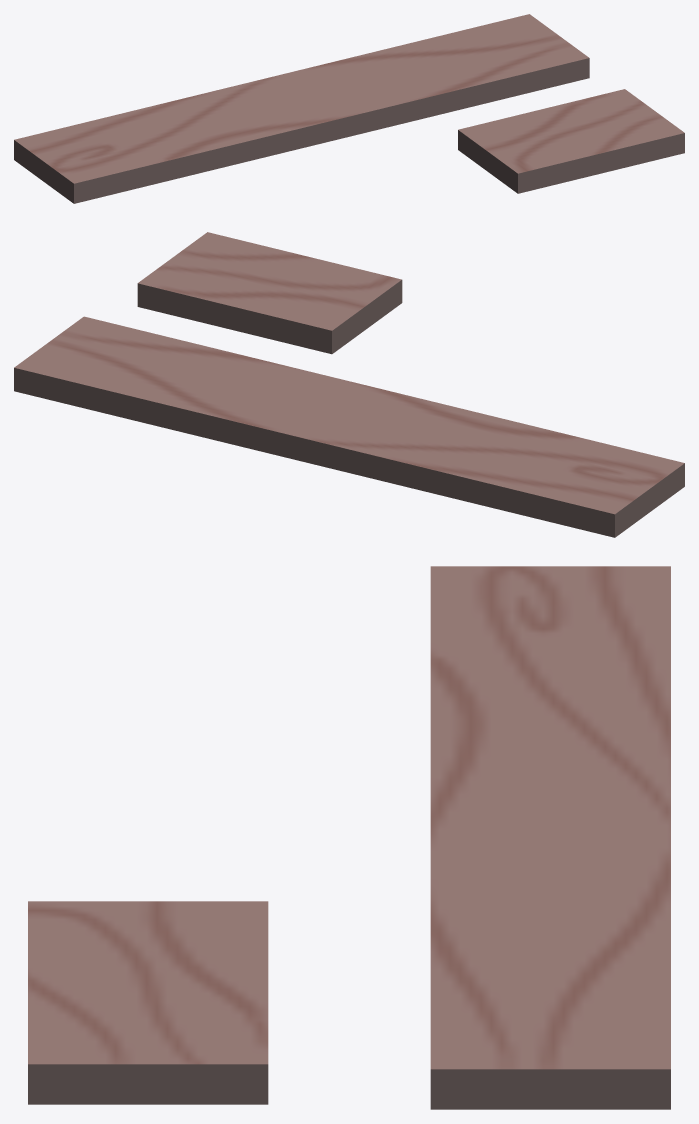
Rendered from bond_steps2.fbx.
3 views of the same model, one above another, from view 1: azimuth 30°, elevation 25°; view 2: azimuth 150°, elevation 25°; view 3: azimuth 270°, elevation 25° (orthographic). The views are drawn at different scales.
Visible parts, largest first — view 1: Props_steps.001; view 2: Props_steps.001; view 3: Props_steps.001.
Part boxes in pixels (left/top/right/bottom): Props_steps.001: left=14, top=14, right=684, bottom=203; Props_steps.001: left=14, top=232, right=684, bottom=537; Props_steps.001: left=28, top=566, right=670, bottom=1109.
Bounding box in the file's own units: 238 × 8.9 × 128.
